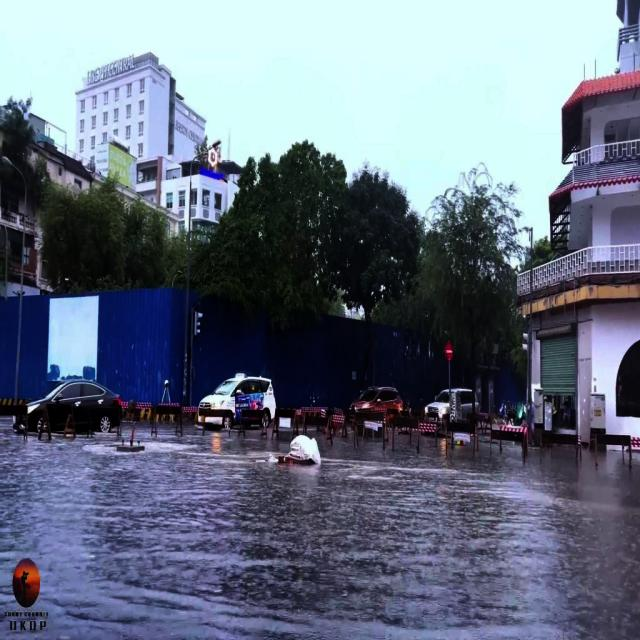cam_xe_di_nguoc_chieu: (445, 342, 453, 360)
